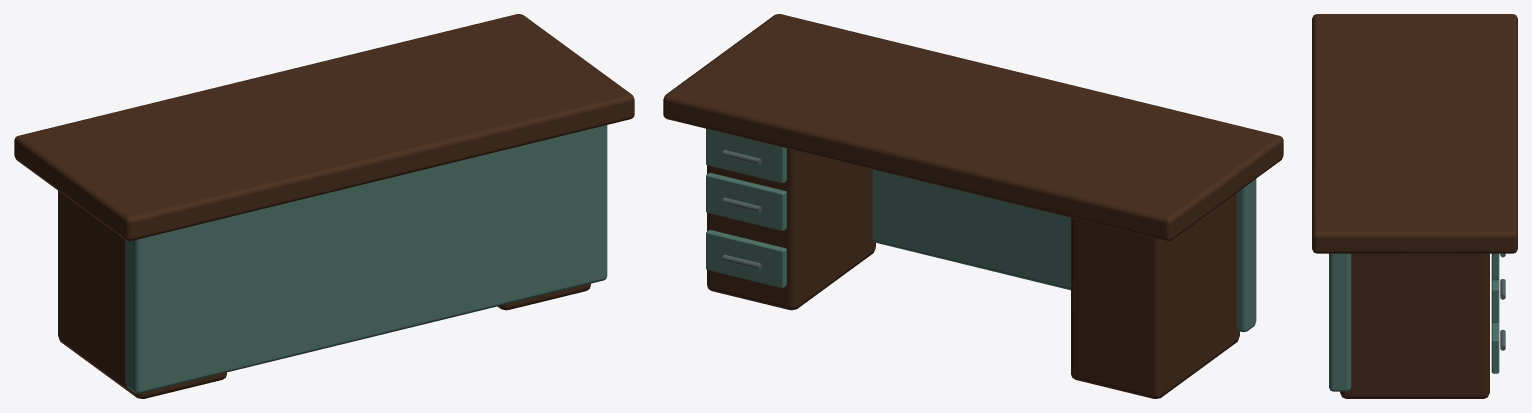
The model's file is Desk.obj.
The picture shows the model from 3 angles, left to right: view 1: azimuth 30°, elevation 25°; view 2: azimuth 150°, elevation 25°; view 3: azimuth 270°, elevation 25°; orthographic projection. The views are drawn at different scales.
Parts seen in each view (by area): view 1: Desk; view 2: Desk; view 3: Desk.
Part boxes in pixels (left/top/right/bottom): Desk: left=14, top=14, right=634, bottom=398; Desk: left=663, top=14, right=1283, bottom=398; Desk: left=1312, top=14, right=1517, bottom=398.
Bounding box in the file's own units: 2.8 × 1.06 × 1.1.
